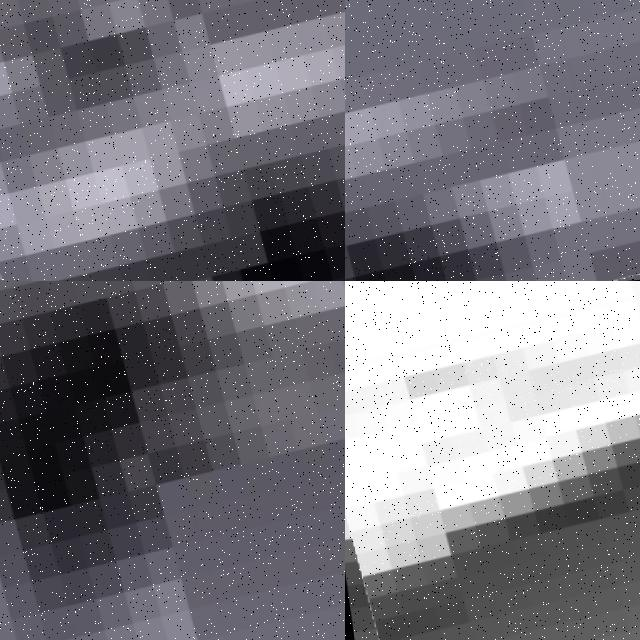0: (0, 281, 345, 640), (0, 0, 345, 281), (345, 0, 640, 281)
drone: (345, 281, 640, 640)
